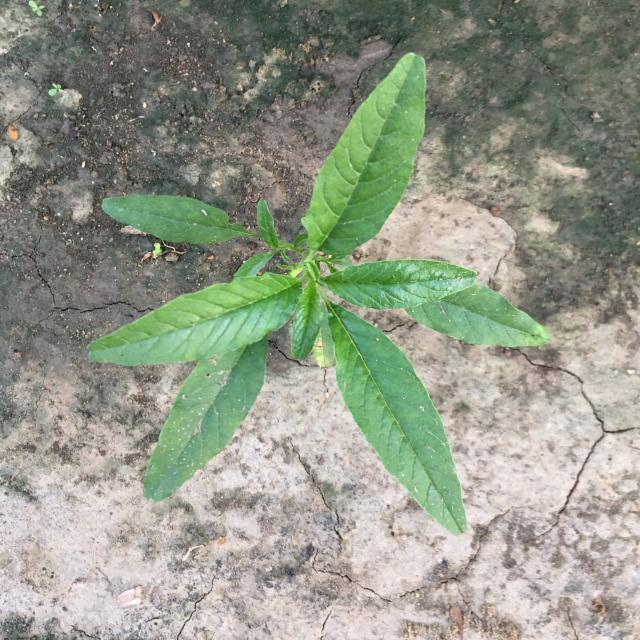Waterhemp: (87, 52, 552, 538)
